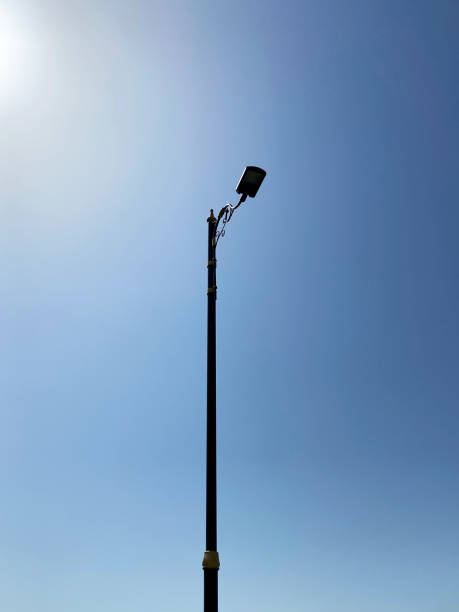light_pole: (202, 213, 222, 612)
